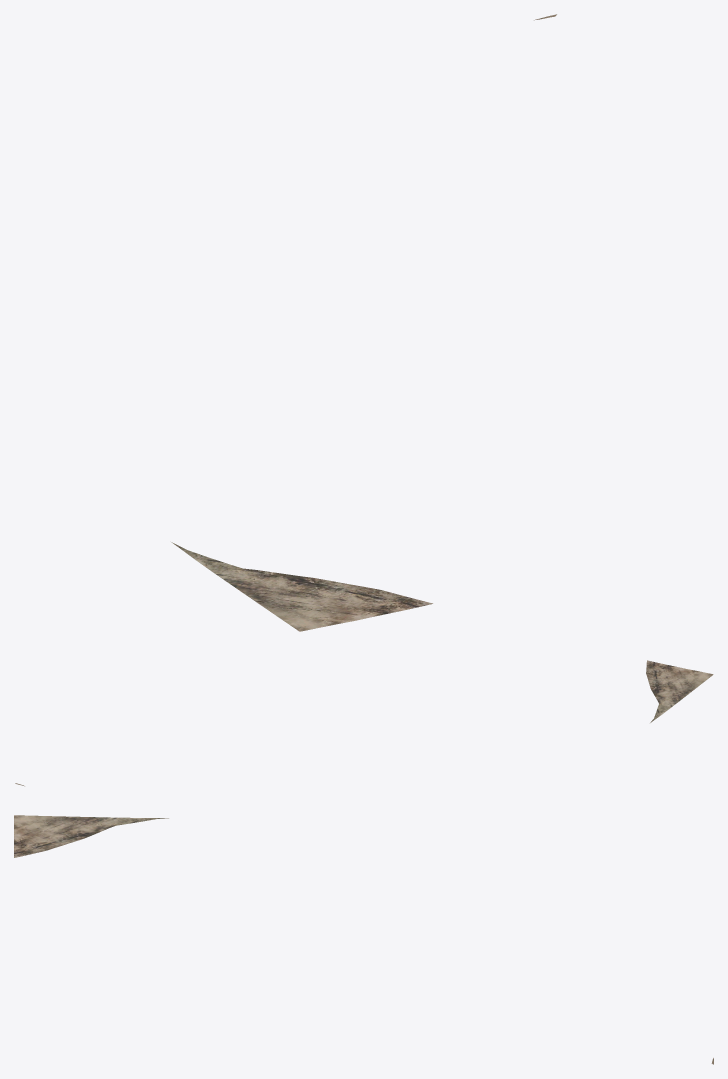
Rendered from CM_Terrain_24489434_6819589.fbx.
3 views of the same model, one above another, from view 1: azimuth 30°, elevation 25°; view 2: azimuth 150°, elevation 25°; view 3: azimuth 270°, elevation 25° (orthographic). The views are drawn at different scales.
Parts seen in each view (by area): view 1: CM_Terrain_24489434_6819589_LOD0; view 2: CM_Terrain_24489434_6819589_LOD0; view 3: CM_Terrain_24489434_6819589_LOD0.
Boxes of the visible parts, left/top/right/bottom form: CM_Terrain_24489434_6819589_LOD0: left=171, top=14, right=556, bottom=631; CM_Terrain_24489434_6819589_LOD0: left=15, top=660, right=713, bottom=786; CM_Terrain_24489434_6819589_LOD0: left=14, top=815, right=713, bottom=1064.
Size of what is drawn, in the model's own units: 172 by 0.9368 by 205.
